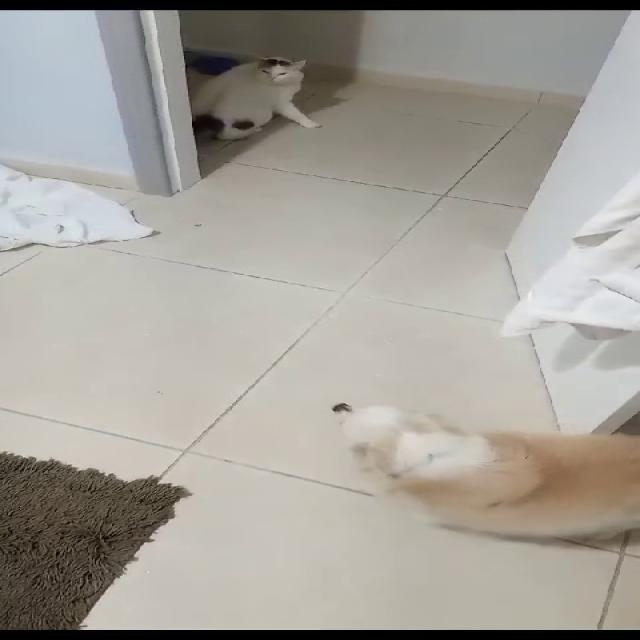Simba: (177, 46, 348, 158)
Theo: (318, 387, 639, 552)
